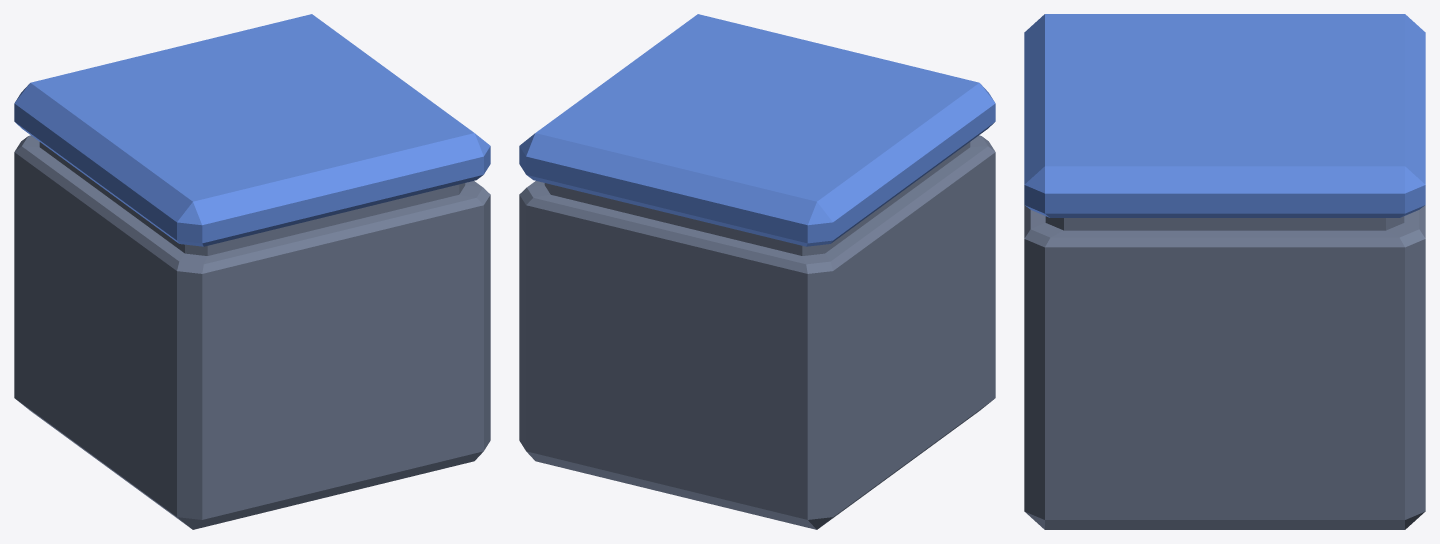
Rendered from TriggerCube.glb.
The picture shows the model from 3 angles, left to right: view 1: azimuth 30°, elevation 25°; view 2: azimuth 150°, elevation 25°; view 3: azimuth 270°, elevation 25°; orthographic projection. The views are drawn at different scales.
Visible parts, largest first — view 1: Body, Head; view 2: Body, Head; view 3: Body, Head.
Part boxes in pixels (x1,y1,x2,y2): Body: (14,135,490,529); Head: (14,14,490,246); Body: (519,135,995,529); Head: (519,14,995,246); Body: (1024,205,1425,529); Head: (1024,14,1425,217).
Bounding box in the file's own units: 2 × 2 × 2.
